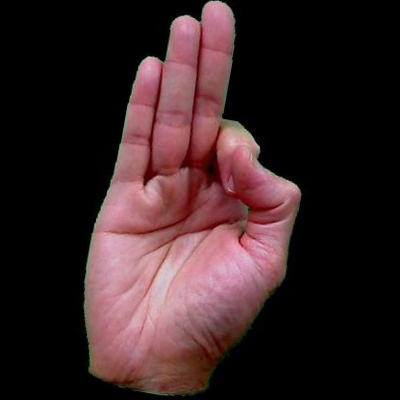f: (1, 1, 400, 388)
